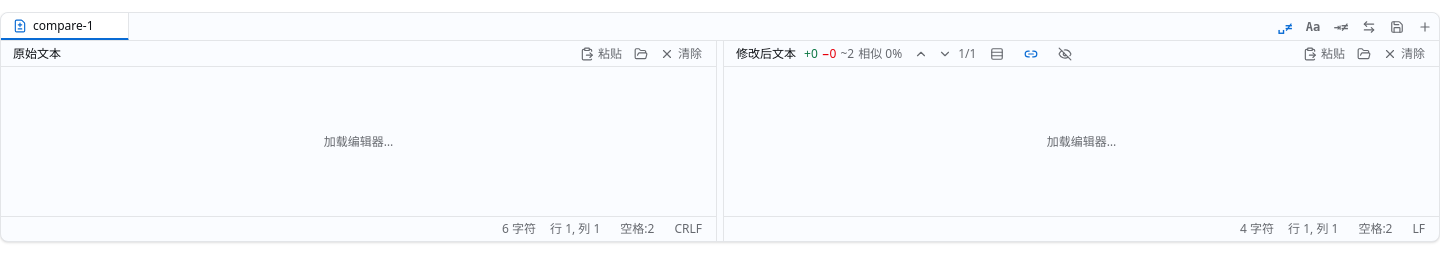
Test: TextCompare › 忽略换行符开关:仅 CRLF/LF 差异时统计归零
Expected: the element with test id "diff-stats" shows "~2", [804,46,902,62]
Click the button with test id "diff-ignore-eol" at [1341, 27], box [1327,13,1355,41]
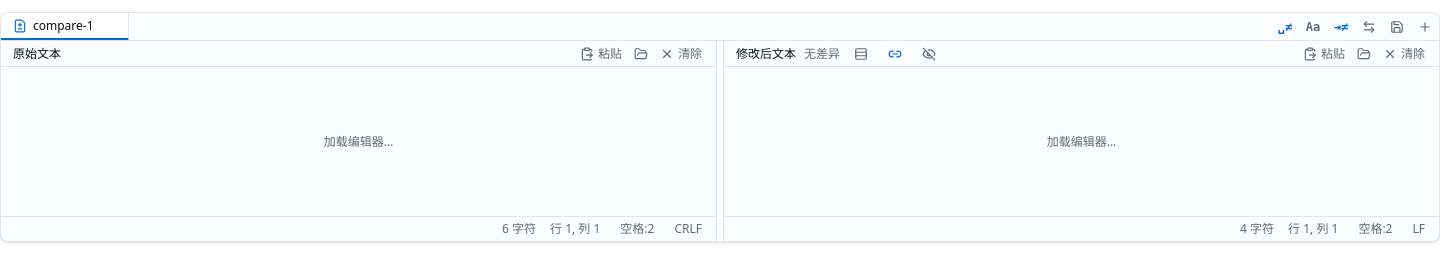
Now the text with test id "diff-stats" reads "无差异", box [804,44,840,62]
